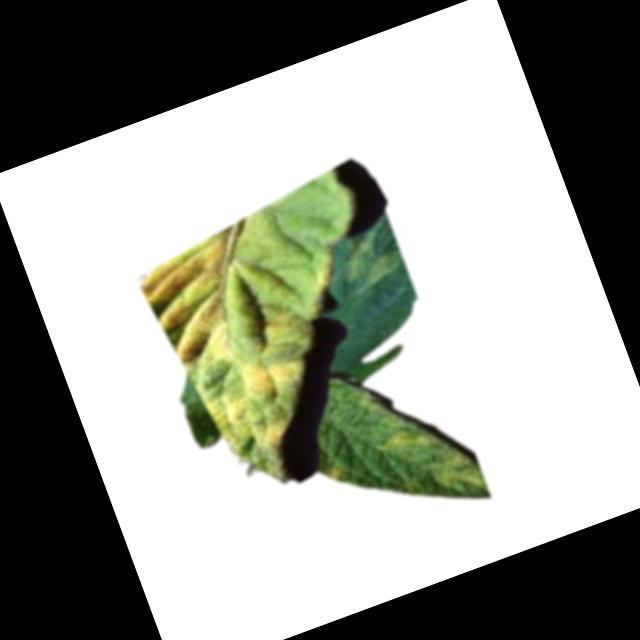Leaf_Mold: (129, 196, 384, 474), (377, 419, 439, 465)
